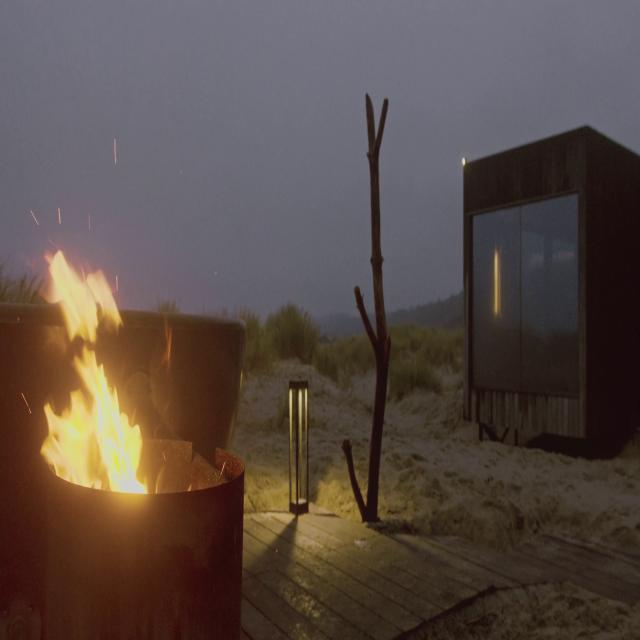Fire: (24, 243, 150, 499)
